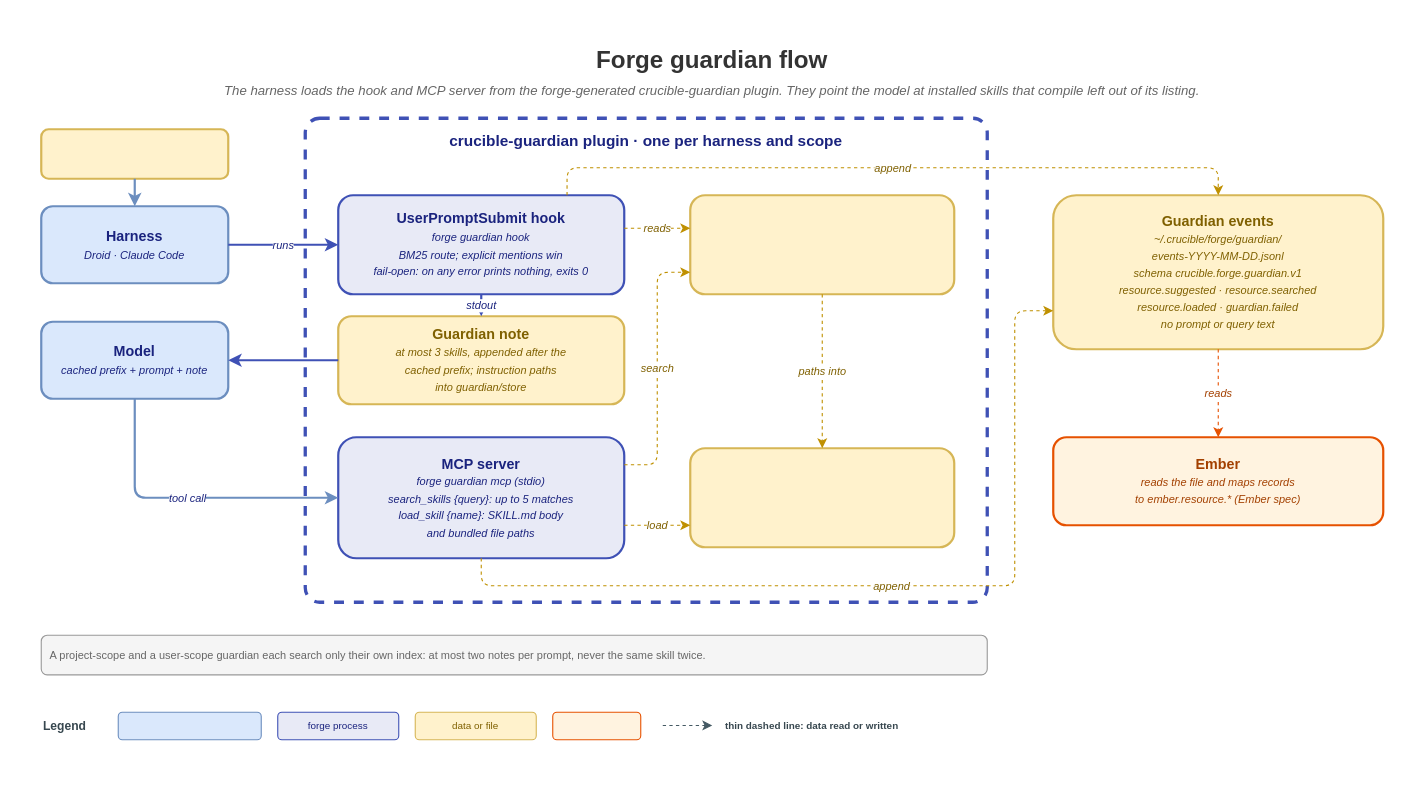
Image size: 1423x807. Some labels were removed from this diagram. The shapes that lost their labels are listed below. From the top down, each one's centre as x and y in pixels, then its label:
(x=134, y=153): User prompt
(x=822, y=244): guardian/index.json deferred and pruned skills BM25 statistics from compile
(x=822, y=497): guardian/store copies of deferred and pruned skill directories
(x=189, y=725): harness and model
(x=596, y=725): Ember
